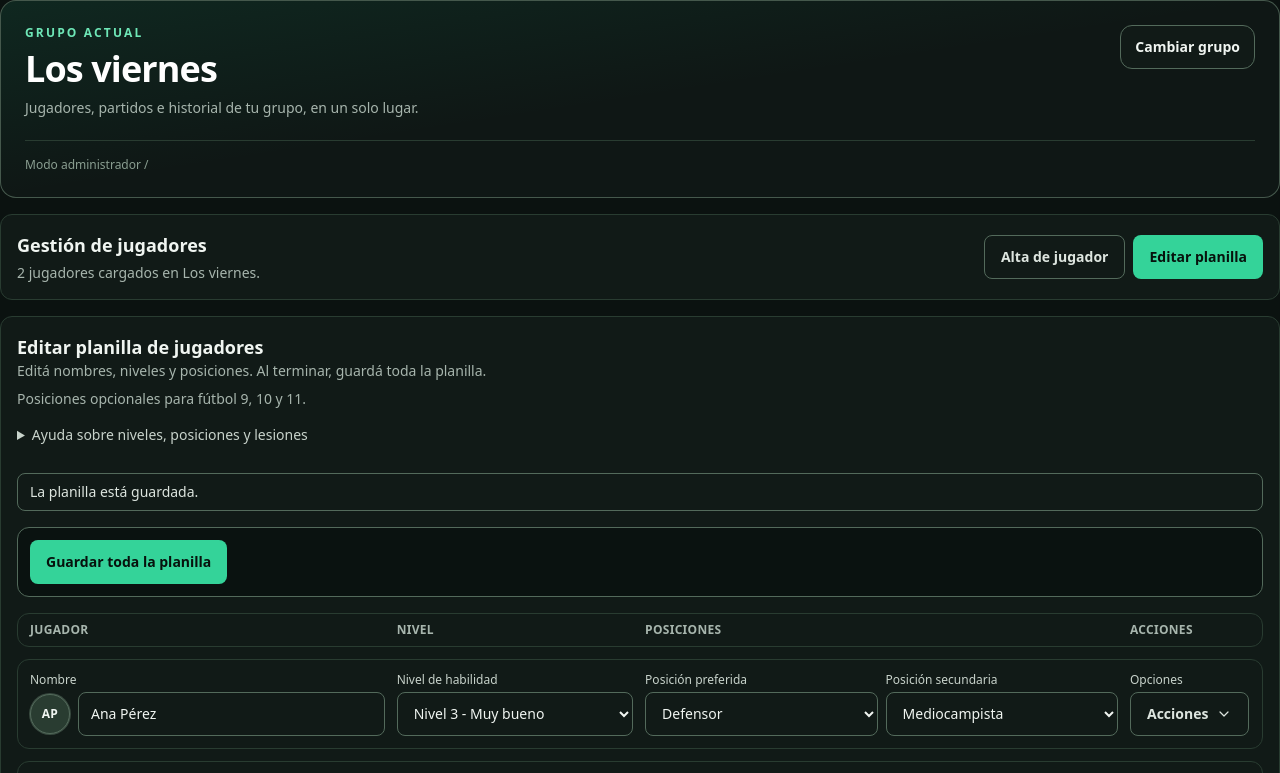
Test: planilla de jugadores › abre la planilla por defecto con navegación al alta y niveles editables del 1 al 7
Expected: the heading "Gestión de jugadores" is shown, x1=17 y1=233 x2=207 y2=257
Expected: the heading "Editar planilla de jugadores" is shown, x1=17 y1=335 x2=263 y2=359
Click the heading "Ayuda sobre niveles, posiciones y lesiones": (170, 434) x1=32 y1=425 x2=308 y2=444
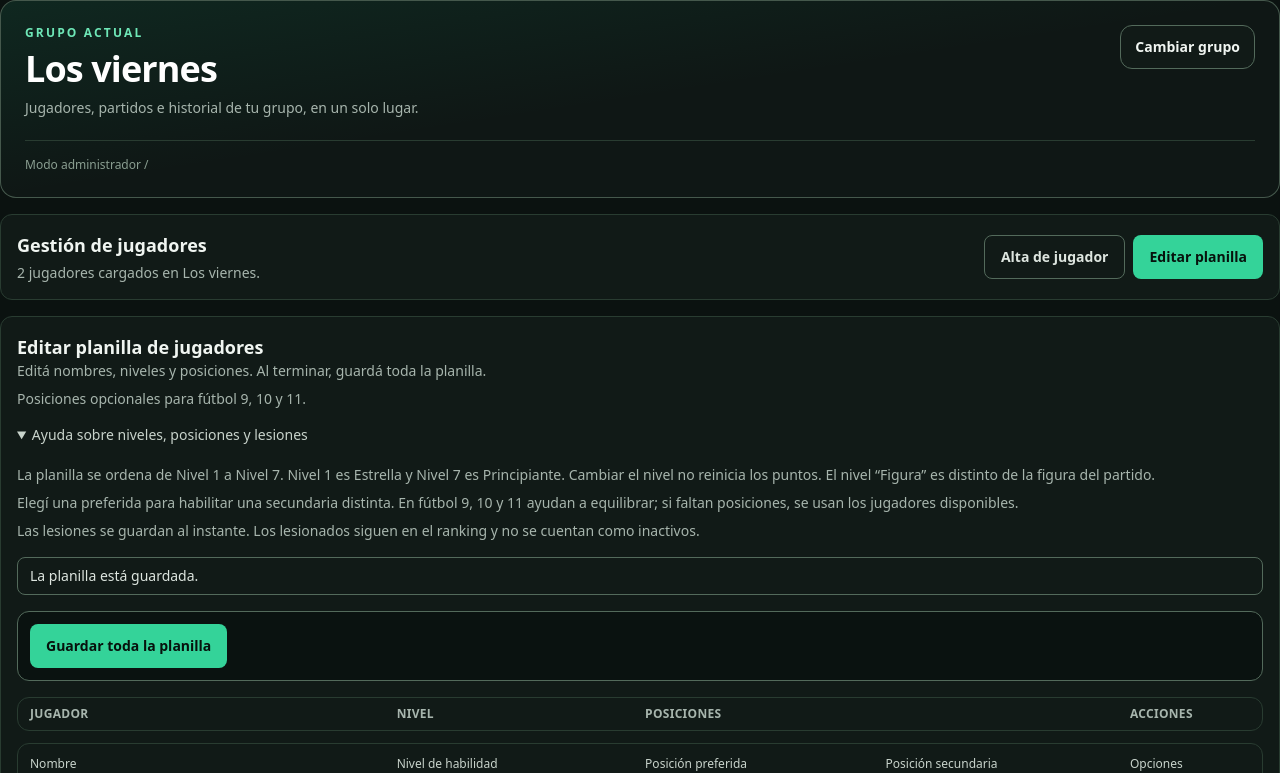
Expected: the text "La planilla se ordena de Nivel 1 a Nivel 7" is shown, x1=17 y1=465 x2=1155 y2=484
